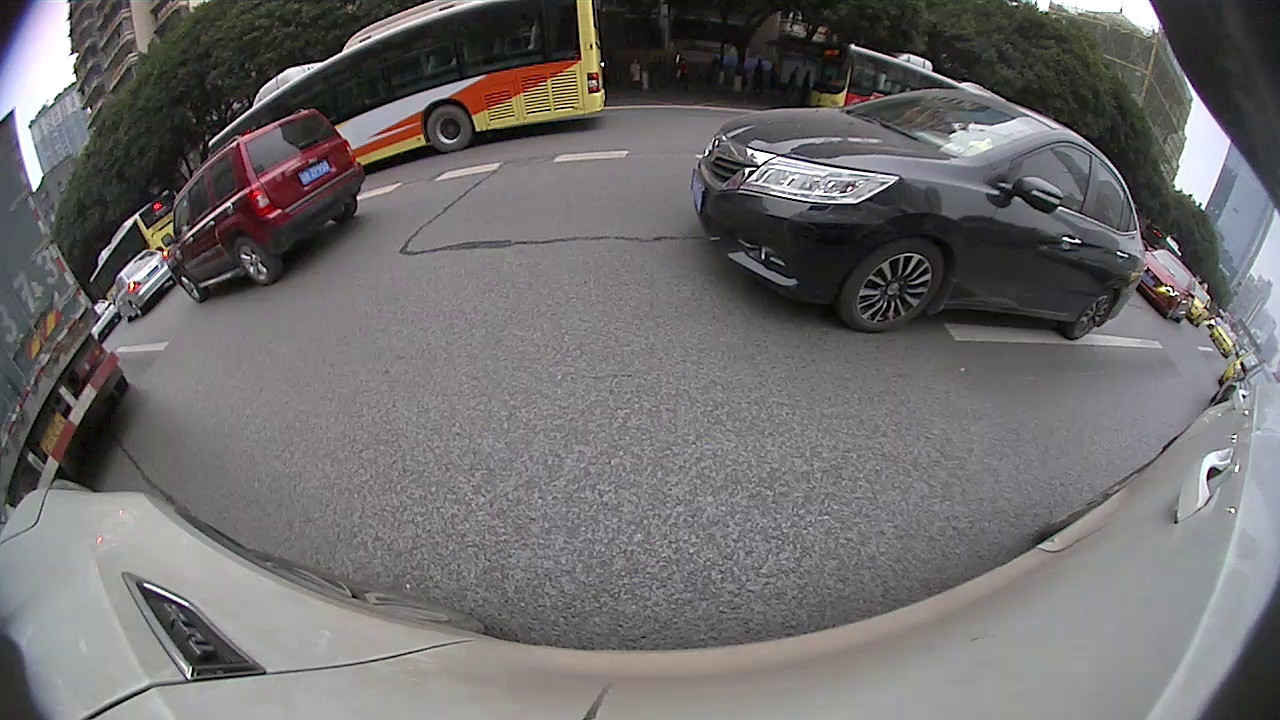bus: (207, 1, 601, 170), (817, 40, 1002, 104), (84, 186, 182, 302)
car: (692, 87, 1144, 341), (172, 104, 367, 306), (1138, 249, 1200, 324), (118, 249, 179, 320), (1222, 367, 1277, 406), (1211, 322, 1243, 360)
front: (848, 232, 942, 333), (181, 262, 202, 304)
rear: (227, 237, 286, 287), (423, 101, 475, 153), (1072, 284, 1116, 340)
truck: (1, 104, 124, 511)
